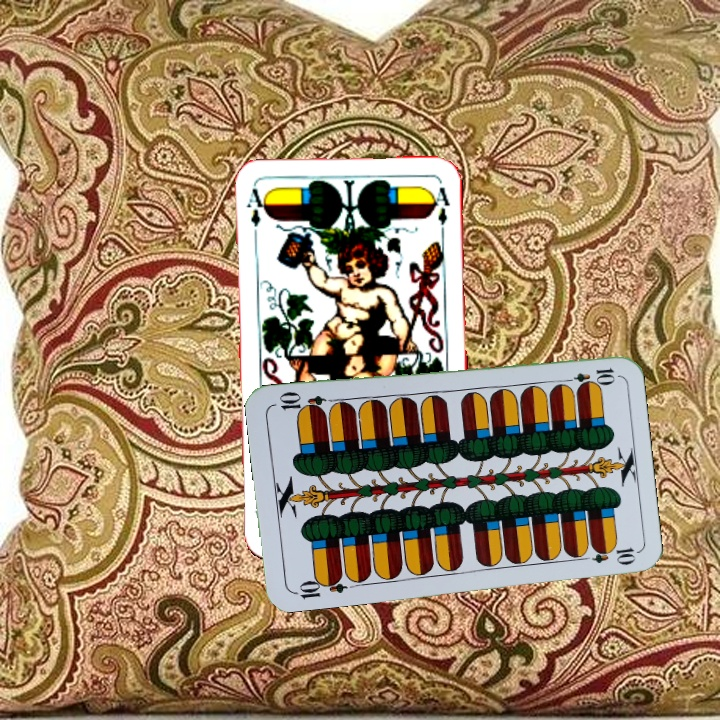E10: (289, 571, 349, 601), (558, 364, 618, 387)
EA: (242, 184, 268, 243)
